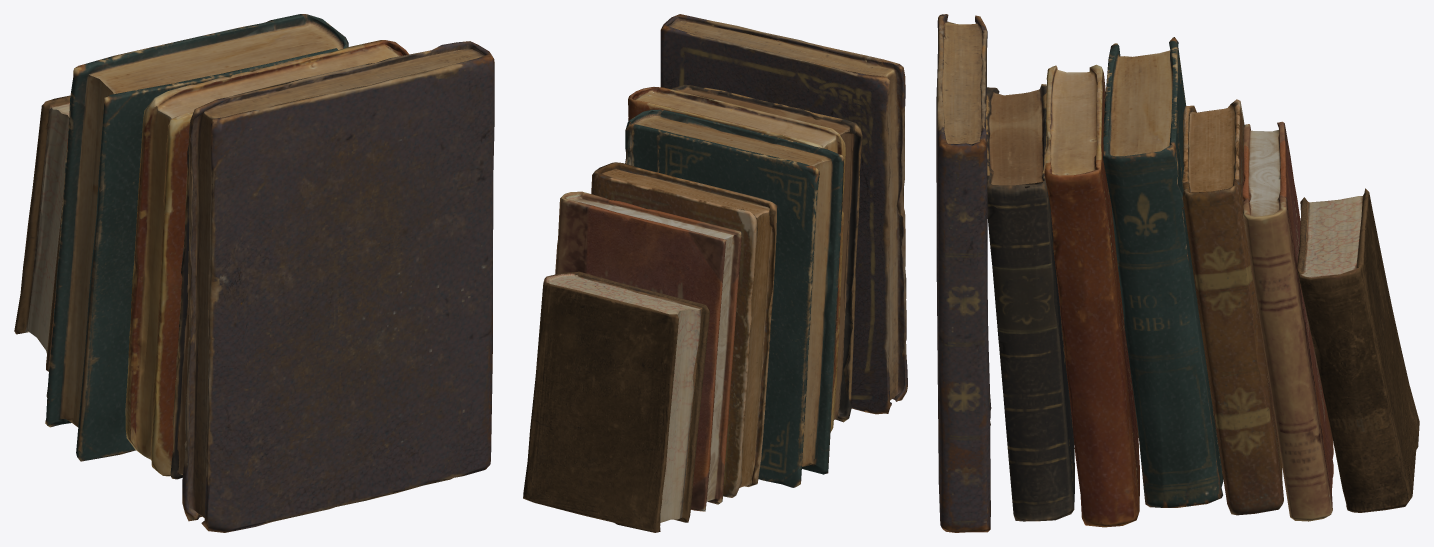
The model's file is SM_Prop_Bookset_A.fbx.
The picture shows the model from 3 angles, left to right: view 1: azimuth 30°, elevation 25°; view 2: azimuth 150°, elevation 25°; view 3: azimuth 270°, elevation 25°; orthographic projection. The views are drawn at different scales.
Visible parts, largest first — view 1: SM_Prop_Bookset_A_LOD0; view 2: SM_Prop_Bookset_A_LOD0; view 3: SM_Prop_Bookset_A_LOD0.
Boxes of the visible parts, x1=… form: SM_Prop_Bookset_A_LOD0: x1=14, y1=14, x2=494, y2=532; SM_Prop_Bookset_A_LOD0: x1=523, y1=14, x2=907, y2=532; SM_Prop_Bookset_A_LOD0: x1=936, y1=14, x2=1419, y2=532.
Size of the model in its own units: 28.11 by 40.84 by 37.23.
Materials: 1 (1 with a texture image).
